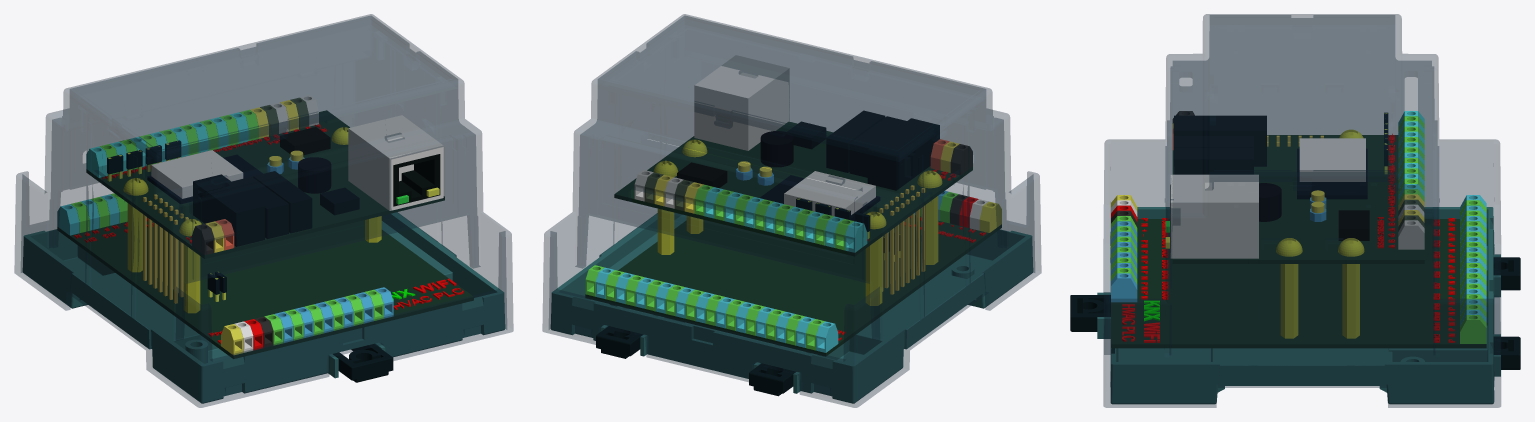
Rendered from modelo-10.glb.
The picture shows the model from 3 angles, left to right: view 1: azimuth 30°, elevation 25°; view 2: azimuth 150°, elevation 25°; view 3: azimuth 270°, elevation 25°; orthographic projection. The views are drawn at different scales.
Parts seen in each view (by area): view 1: Shape_IndexedFaceSet.001_3, Shape_IndexedFaceSet_2; view 2: Shape_IndexedFaceSet.001_3, Shape_IndexedFaceSet_2; view 3: Shape_IndexedFaceSet.001_3, Shape_IndexedFaceSet_2.
Part boxes in pixels (x1,y1,x2,y2): Shape_IndexedFaceSet.001_3: [14, 14, 513, 407]; Shape_IndexedFaceSet_2: [22, 95, 505, 403]; Shape_IndexedFaceSet.001_3: [542, 14, 1041, 407]; Shape_IndexedFaceSet_2: [550, 55, 1033, 403]; Shape_IndexedFaceSet.001_3: [1103, 14, 1500, 407]; Shape_IndexedFaceSet_2: [1070, 111, 1520, 404].
Size of the model in its own units: 88 by 58 by 102.
